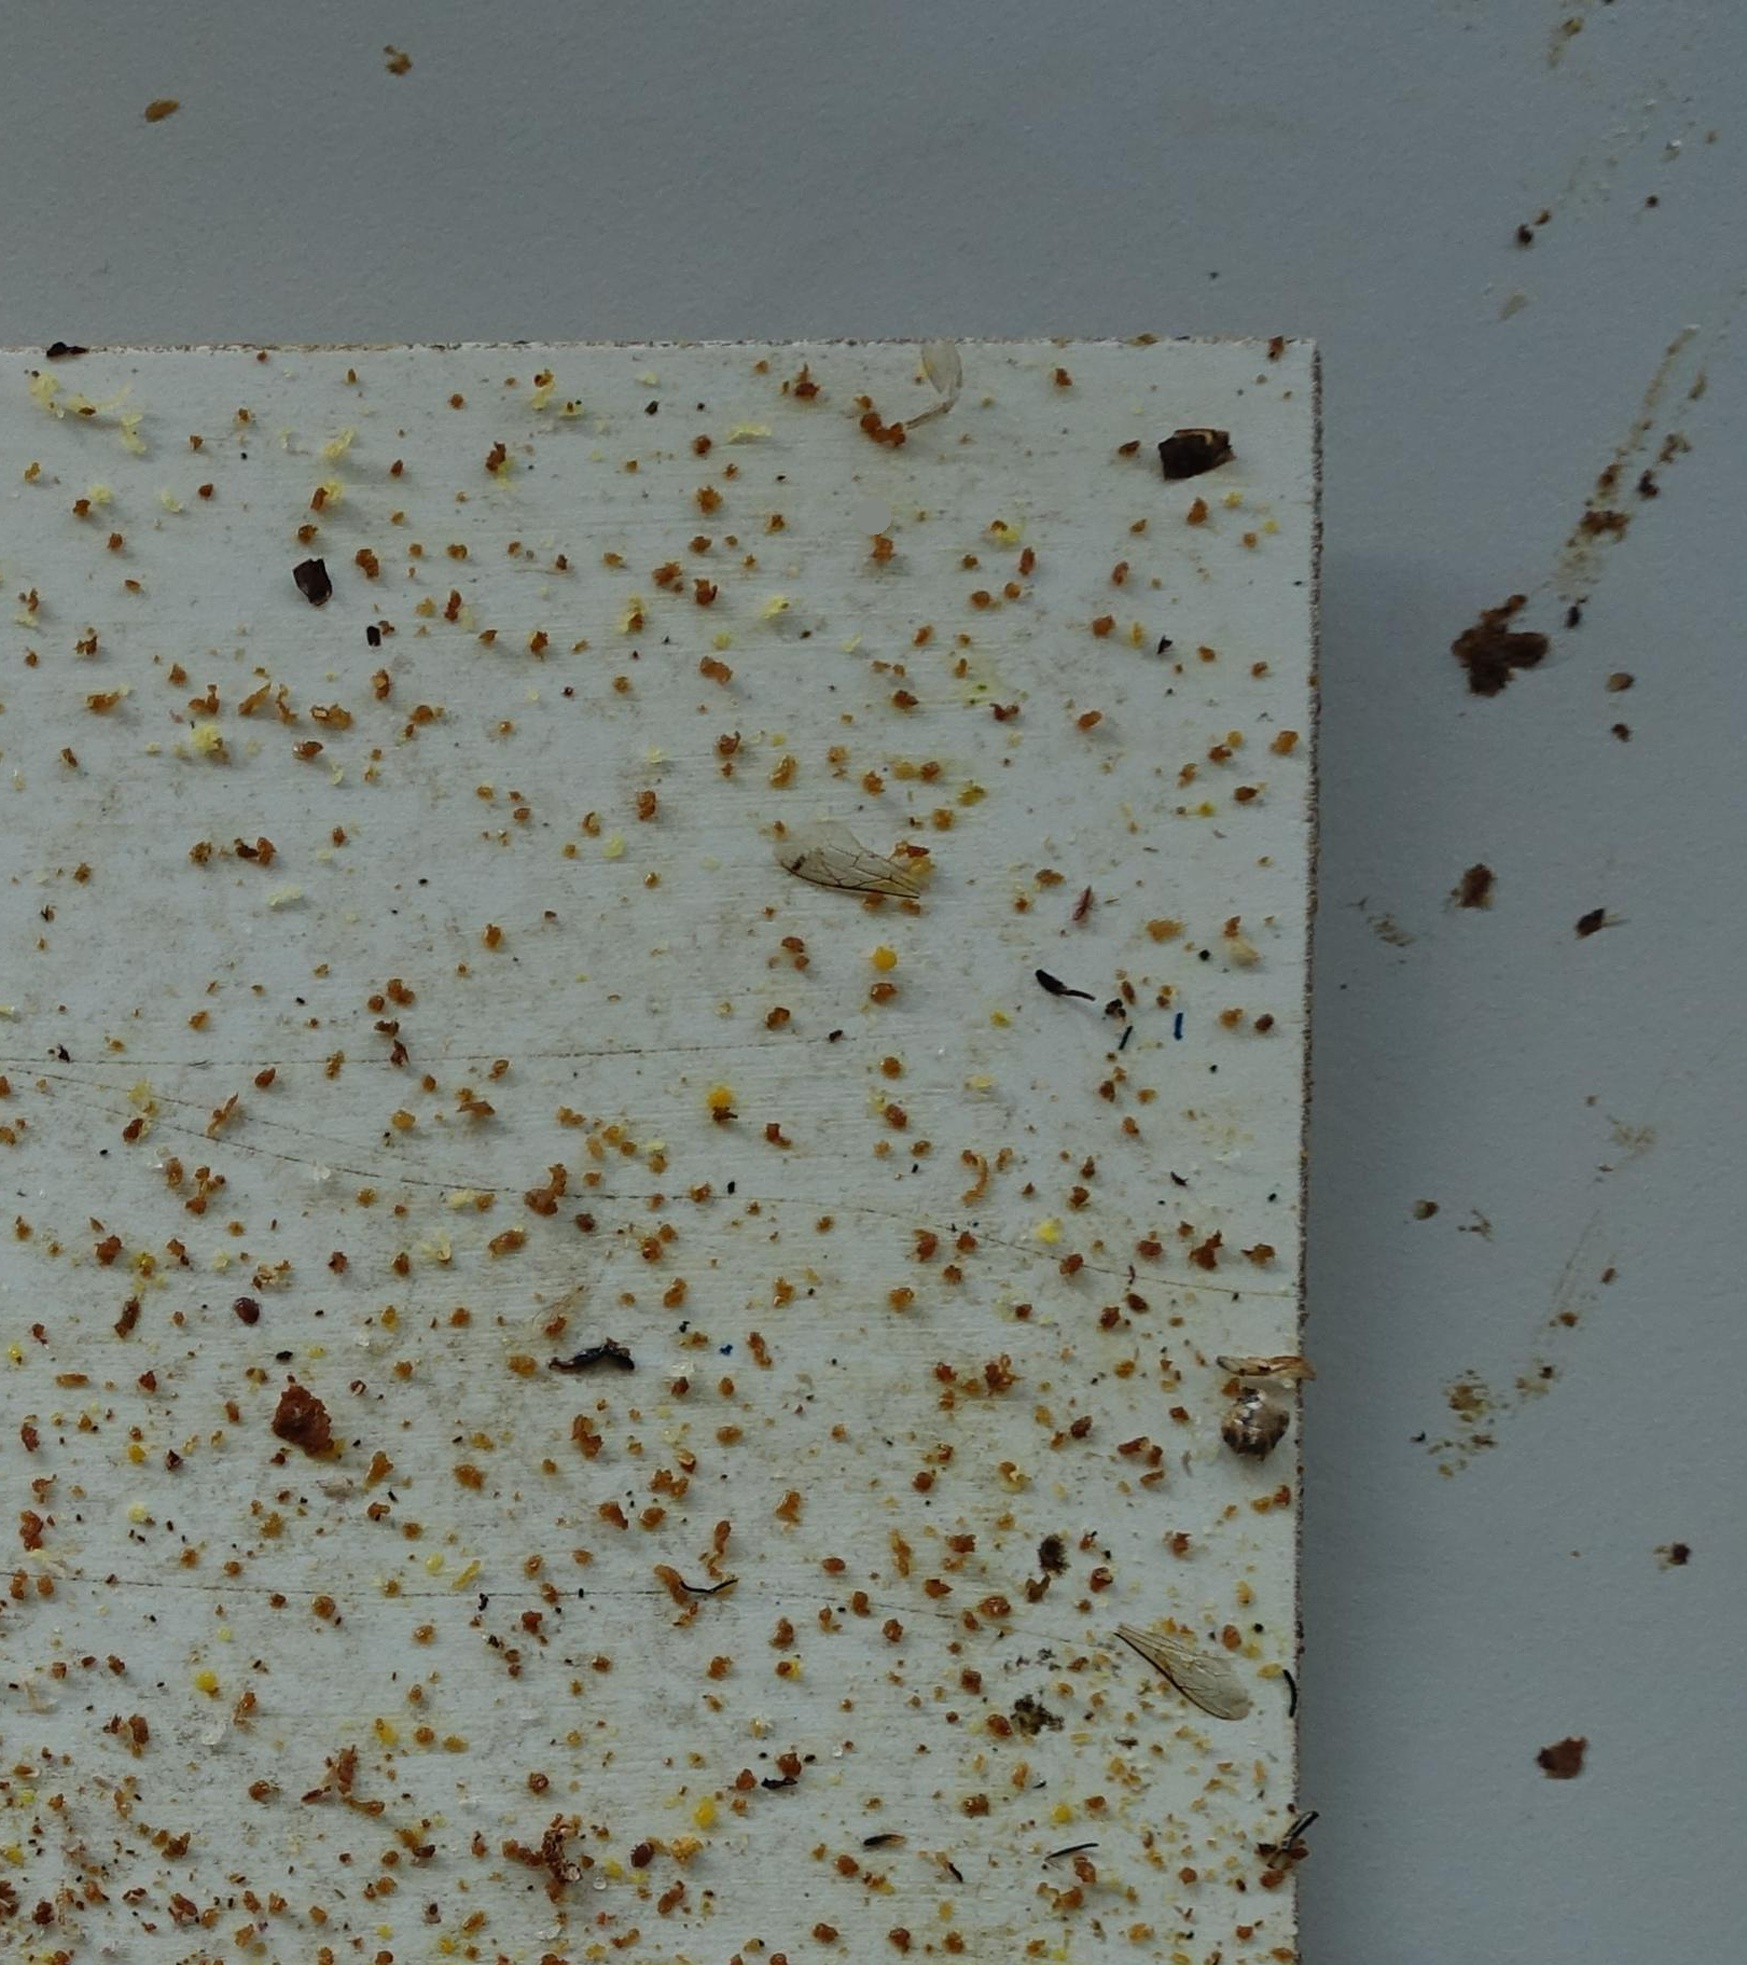Varroa: (236, 1299, 261, 1322), (639, 1847, 654, 1867)
